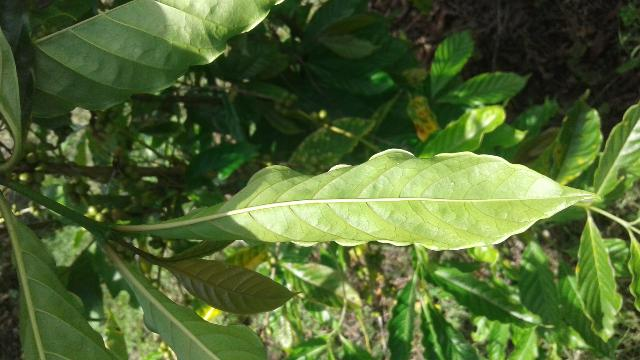healthy: (115, 145, 609, 254)
